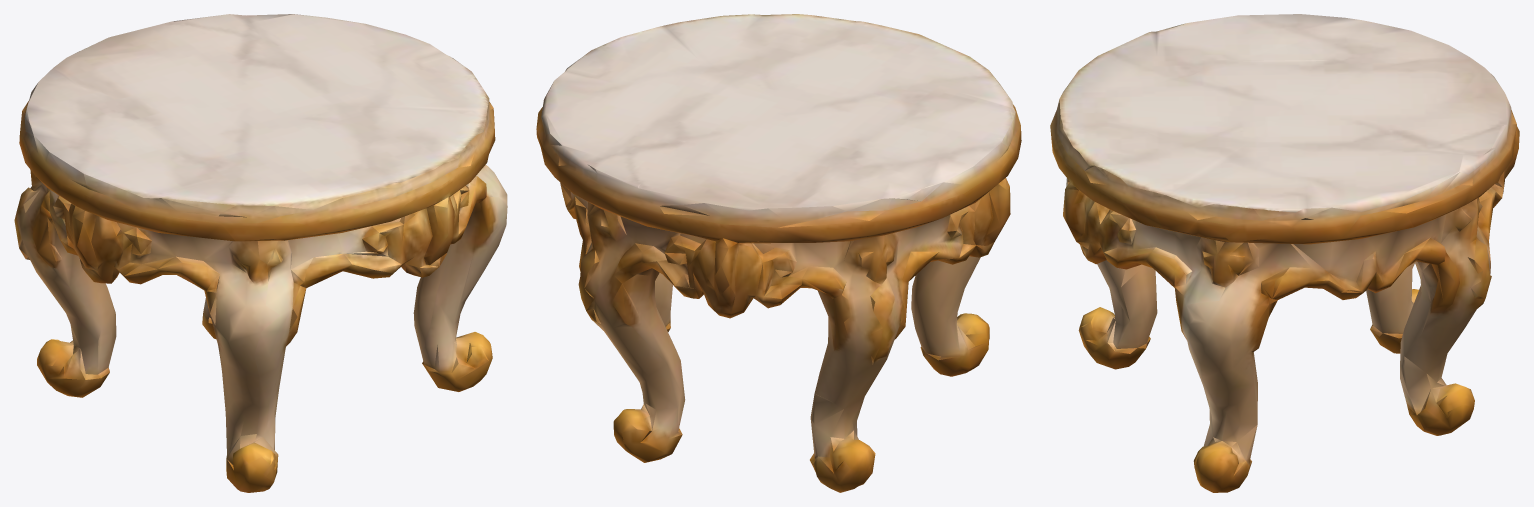
Rendered from table14.glb.
The picture shows the model from 3 angles, left to right: view 1: azimuth 30°, elevation 25°; view 2: azimuth 150°, elevation 25°; view 3: azimuth 270°, elevation 25°; orthographic projection.
Bounding box in the file's own units: 0.227 × 0.1539 × 0.2186.
Materials: 1 (1 with a texture image).
